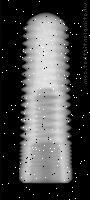Implant Direct: (19, 12, 75, 184)
